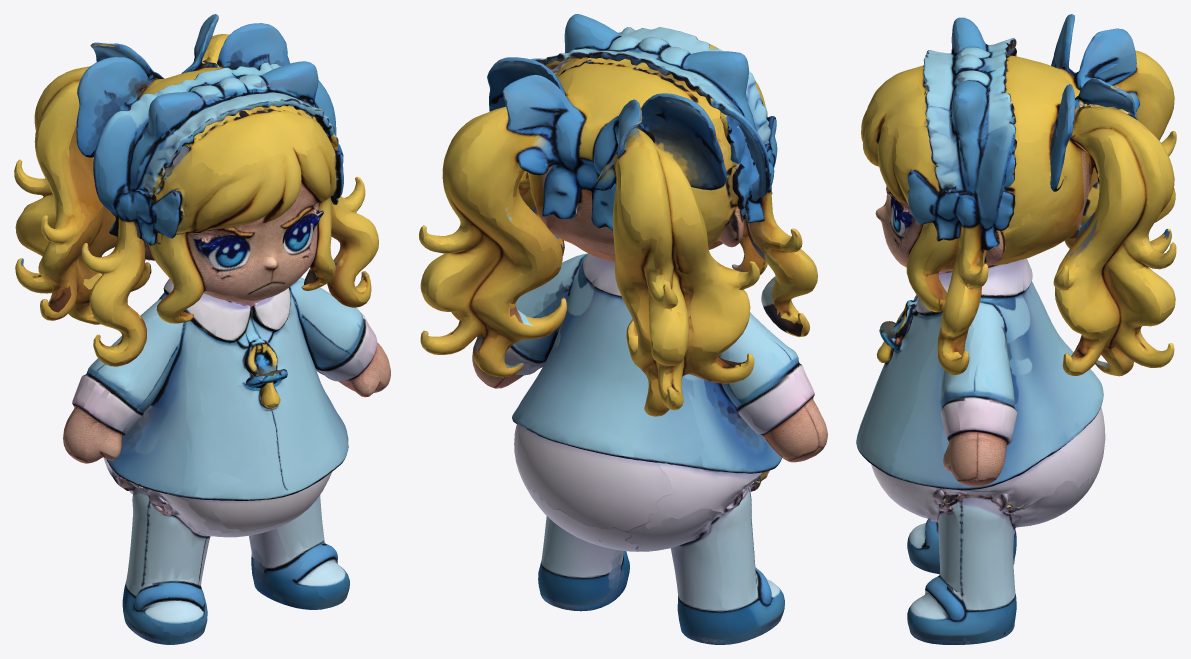
File: Sissy Ry.glb
The picture shows the model from 3 angles, left to right: view 1: azimuth 30°, elevation 25°; view 2: azimuth 150°, elevation 25°; view 3: azimuth 270°, elevation 25°; orthographic projection. The views are drawn at different scales.
Visible parts, largest first — view 1: temp_mesh.ply; view 2: temp_mesh.ply; view 3: temp_mesh.ply.
Part boxes in pixels (left/top/right/bottom): temp_mesh.ply: left=14, top=14, right=390, bottom=644; temp_mesh.ply: left=419, top=14, right=827, bottom=644; temp_mesh.ply: left=856, top=14, right=1176, bottom=644.
Size of the model in its own units: 1.26 by 1.97 by 1.06.
1 material, 1 textured.
